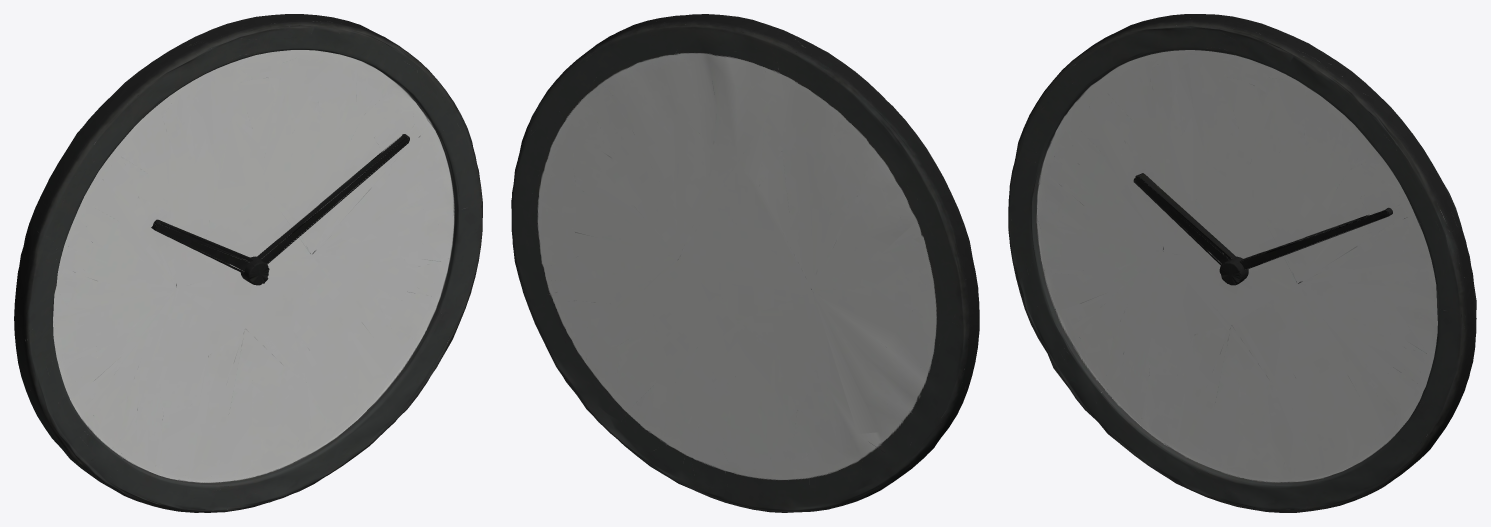
The model's file is desktop.glb.
3 renders of one model, left to right at view 1: azimuth 30°, elevation 25°; view 2: azimuth 150°, elevation 25°; view 3: azimuth 330°, elevation 25°, orthographic.
Parts seen in each view (by area): view 1: wallclock; view 2: wallclock; view 3: wallclock.
Boxes of the visible parts, box(x1,y1,x2,y2) form: wallclock: box(14, 14, 482, 512); wallclock: box(511, 14, 979, 512); wallclock: box(1008, 14, 1476, 512).
Bounding box in the file's own units: 0.2999 × 0.3002 × 0.0233.
Materials: 1 (1 with a texture image).
